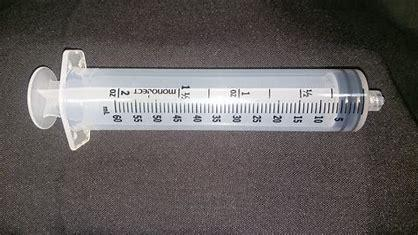Syringe: (14, 38, 418, 166)
